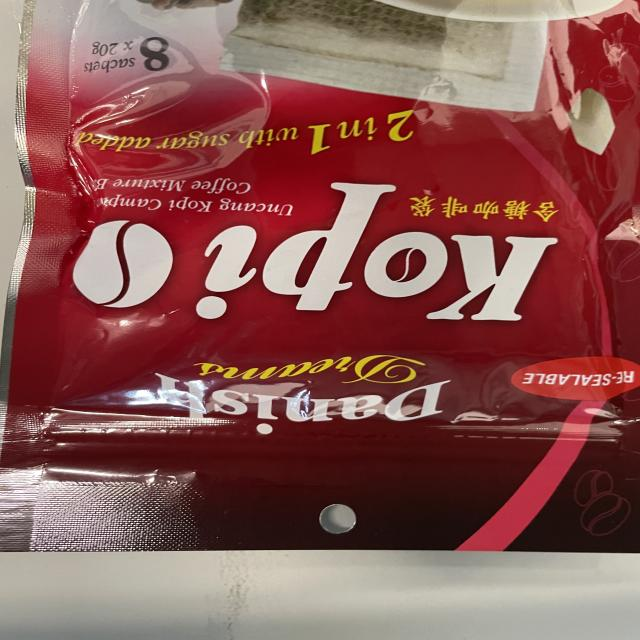object_name: (17, 3, 637, 549)
